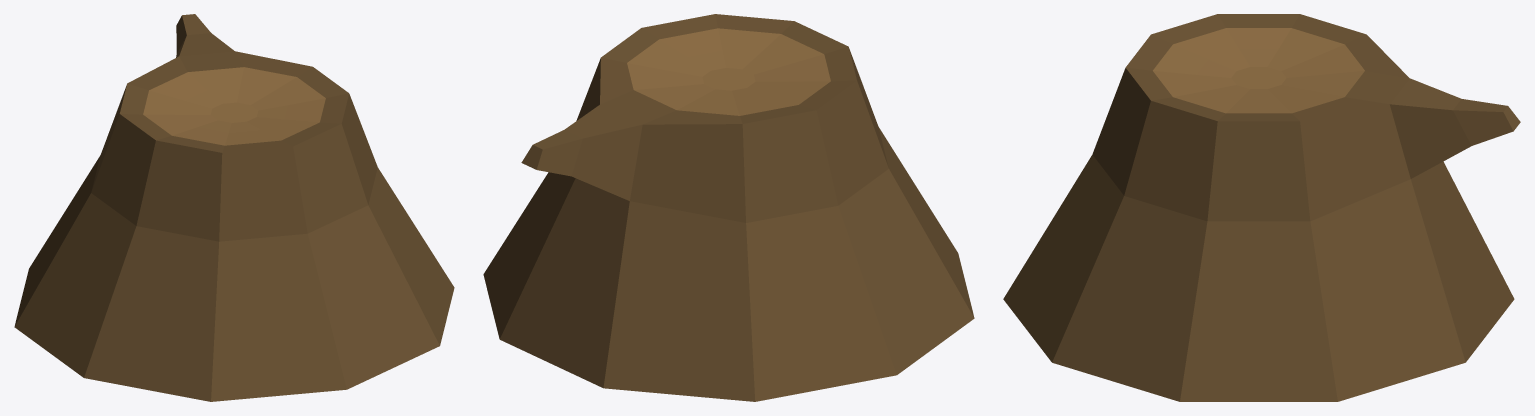
Rendered from TreeStem 001.fbx.
3 views of the same model, side by side, from view 1: azimuth 30°, elevation 25°; view 2: azimuth 150°, elevation 25°; view 3: azimuth 270°, elevation 25° (orthographic). The views are drawn at different scales.
Visible parts, largest first — view 1: TreeStem 001; view 2: TreeStem 001; view 3: TreeStem 001.
Boxes of the visible parts, x1,y1,x2,y2 form: TreeStem 001: (14, 14, 454, 401); TreeStem 001: (483, 14, 974, 401); TreeStem 001: (1003, 14, 1520, 401).
Size of the model in its own units: 152 by 79.68 by 161.
